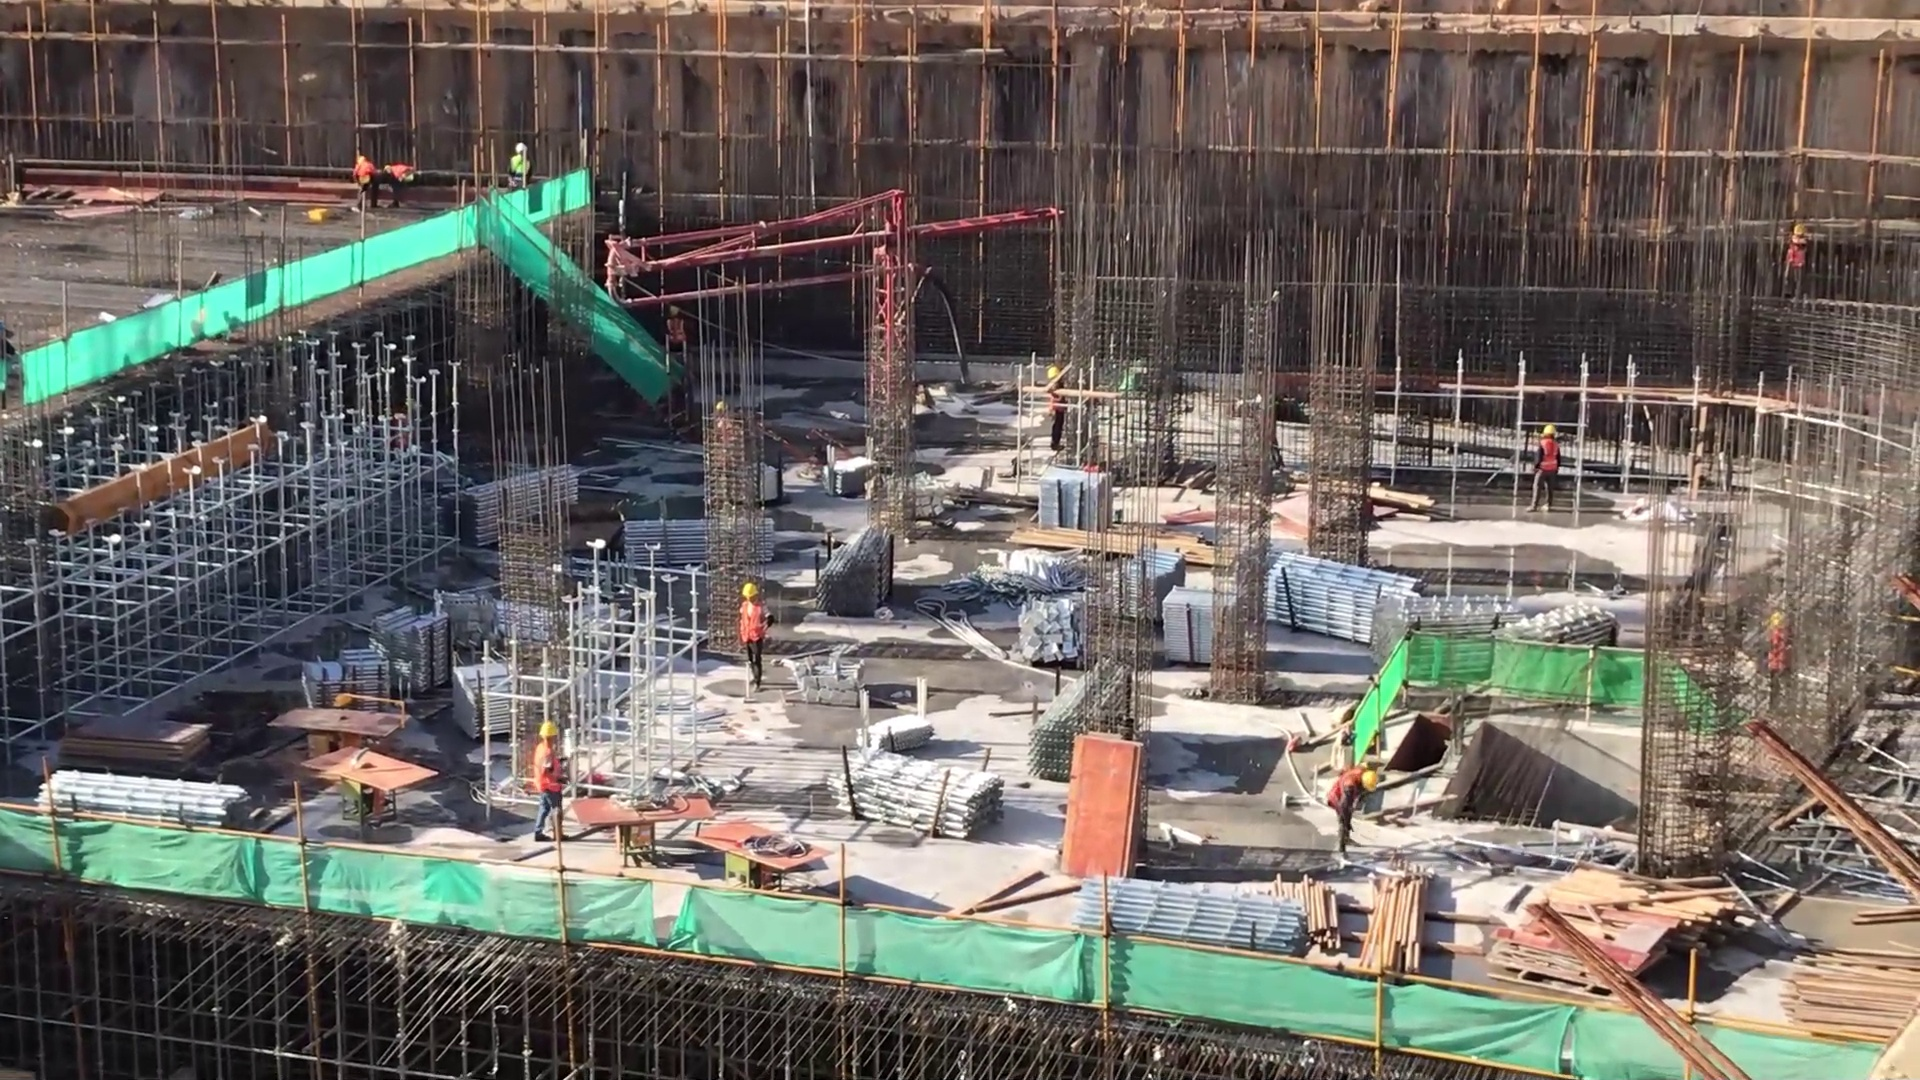helmet: (533, 718, 568, 738), (1788, 219, 1811, 240), (740, 580, 760, 601), (1363, 770, 1379, 795), (1046, 365, 1066, 383), (663, 305, 685, 319), (514, 139, 534, 151), (1543, 424, 1558, 438)
person: (1326, 769, 1384, 879), (530, 715, 575, 854), (1522, 426, 1569, 527), (1778, 208, 1817, 317), (737, 576, 773, 694), (1047, 360, 1074, 463), (658, 304, 692, 383), (382, 157, 422, 212), (508, 135, 537, 202), (354, 153, 378, 226)
vest: (535, 740, 563, 802), (1329, 766, 1364, 812), (740, 602, 766, 644), (1537, 435, 1560, 473), (665, 316, 686, 349), (510, 153, 533, 183), (392, 162, 416, 187)
